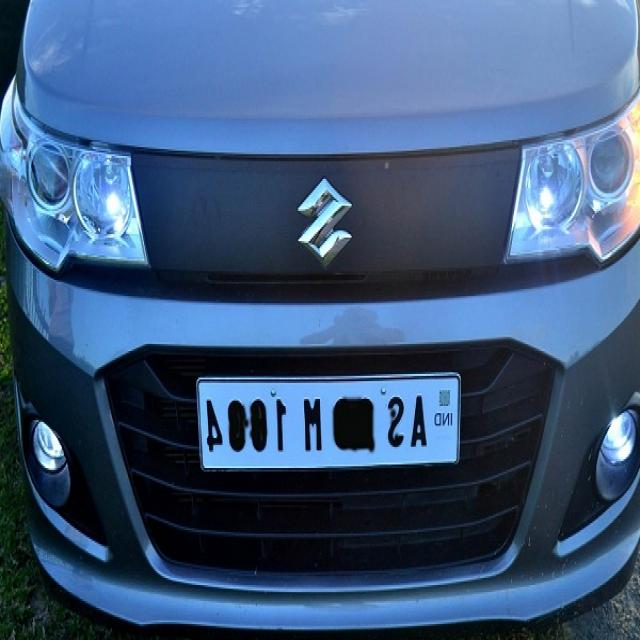license_plate: (192, 368, 464, 480)
